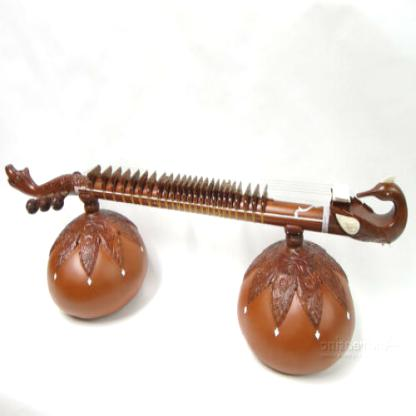Veena: (2, 144, 410, 277)
